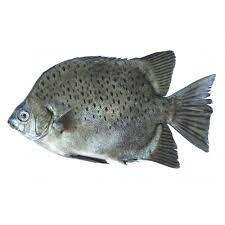Scat Fish: (9, 48, 218, 170)
